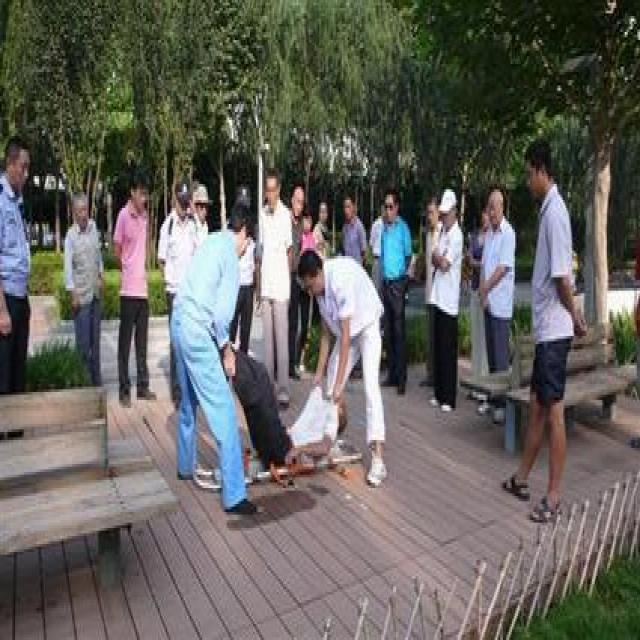10-: (1, 131, 596, 557)
down: (232, 344, 345, 472)
